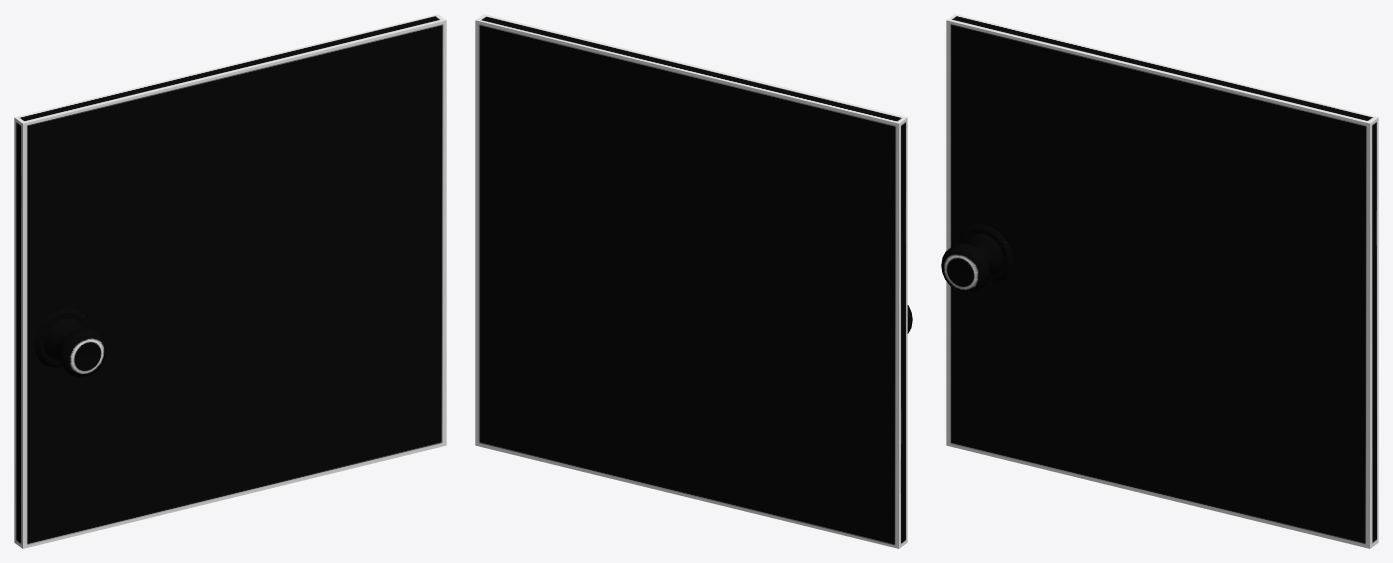
File: Fuse Box Door.fbx
3 renders of one model, left to right at view 1: azimuth 30°, elevation 25°; view 2: azimuth 150°, elevation 25°; view 3: azimuth 330°, elevation 25°, orthographic.
Visible parts, largest first — view 1: pCylinder158; view 2: pCylinder158; view 3: pCylinder158.
Boxes of the visible parts, x1=… form: pCylinder158: x1=14, y1=14, x2=446, y2=548; pCylinder158: x1=475, y1=14, x2=912, y2=548; pCylinder158: x1=941, y1=14, x2=1378, y2=548.
Bounding box in the file's own units: 6.99 × 6.7 × 0.9735.
